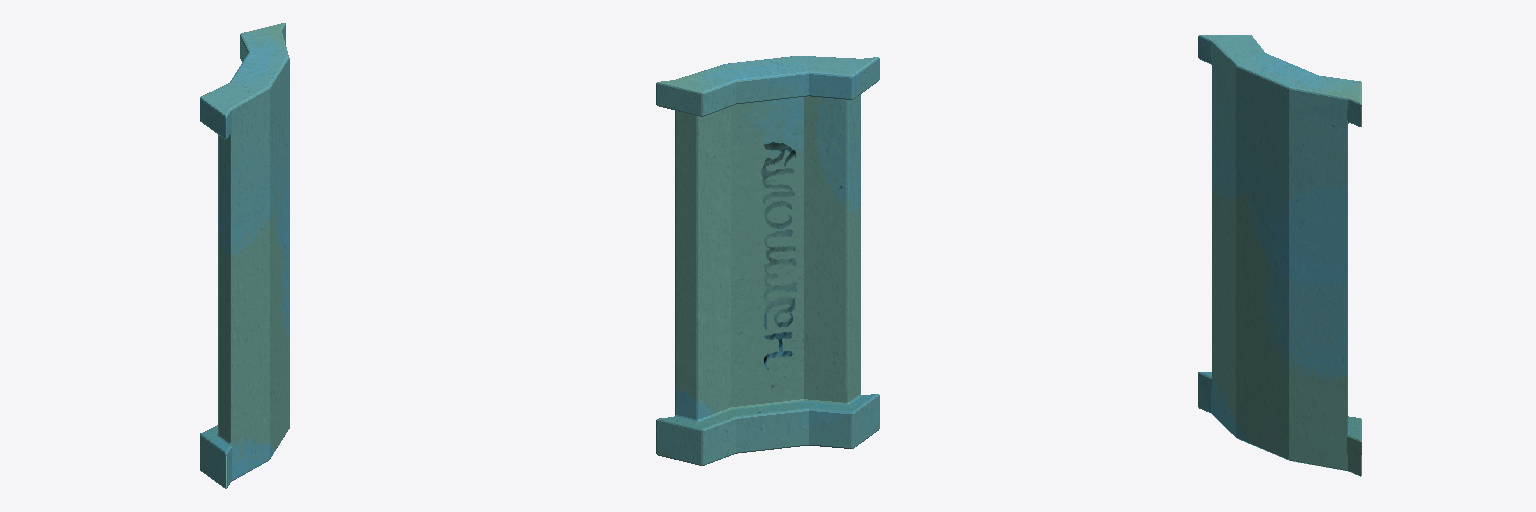
The picture shows the model from 3 angles: view 1: azimuth 30°, elevation 25°; view 2: azimuth 150°, elevation 25°; view 3: azimuth 270°, elevation 25°; orthographic projection.
Visible parts, largest first — view 1: TOMB_PILLAR_ANGLE_004; view 2: TOMB_PILLAR_ANGLE_004; view 3: TOMB_PILLAR_ANGLE_004.
Boxes of the visible parts, x1=… form: TOMB_PILLAR_ANGLE_004: x1=200, y1=23, x2=289, y2=488; TOMB_PILLAR_ANGLE_004: x1=656, y1=56, x2=879, y2=465; TOMB_PILLAR_ANGLE_004: x1=1198, y1=35, x2=1361, y2=476.
Bounding box in the file's own units: 1.19 × 3 × 1.19.
Materials: 3 (3 with a texture image).